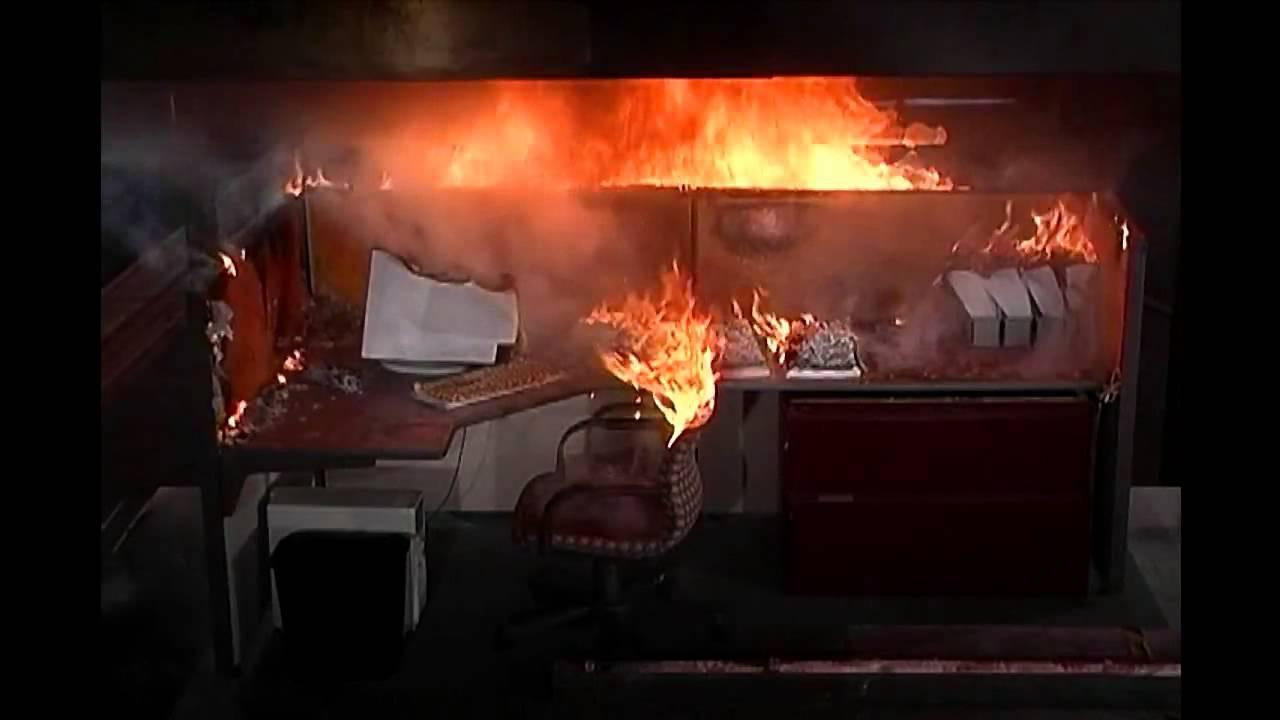fire: (339, 72, 957, 201), (579, 271, 838, 443), (976, 202, 1133, 290)
